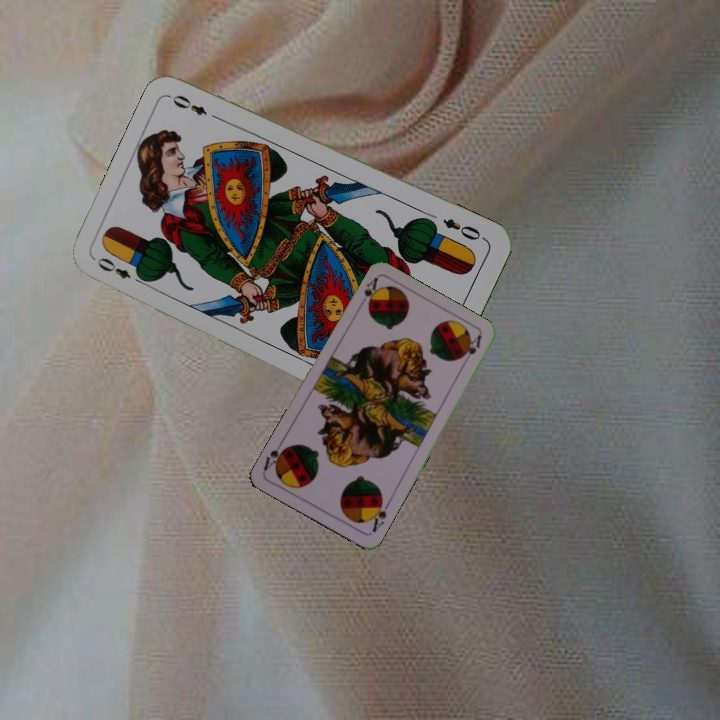EO: (92, 253, 148, 288), (438, 214, 488, 243)
SA: (365, 494, 393, 535), (355, 273, 381, 311)
